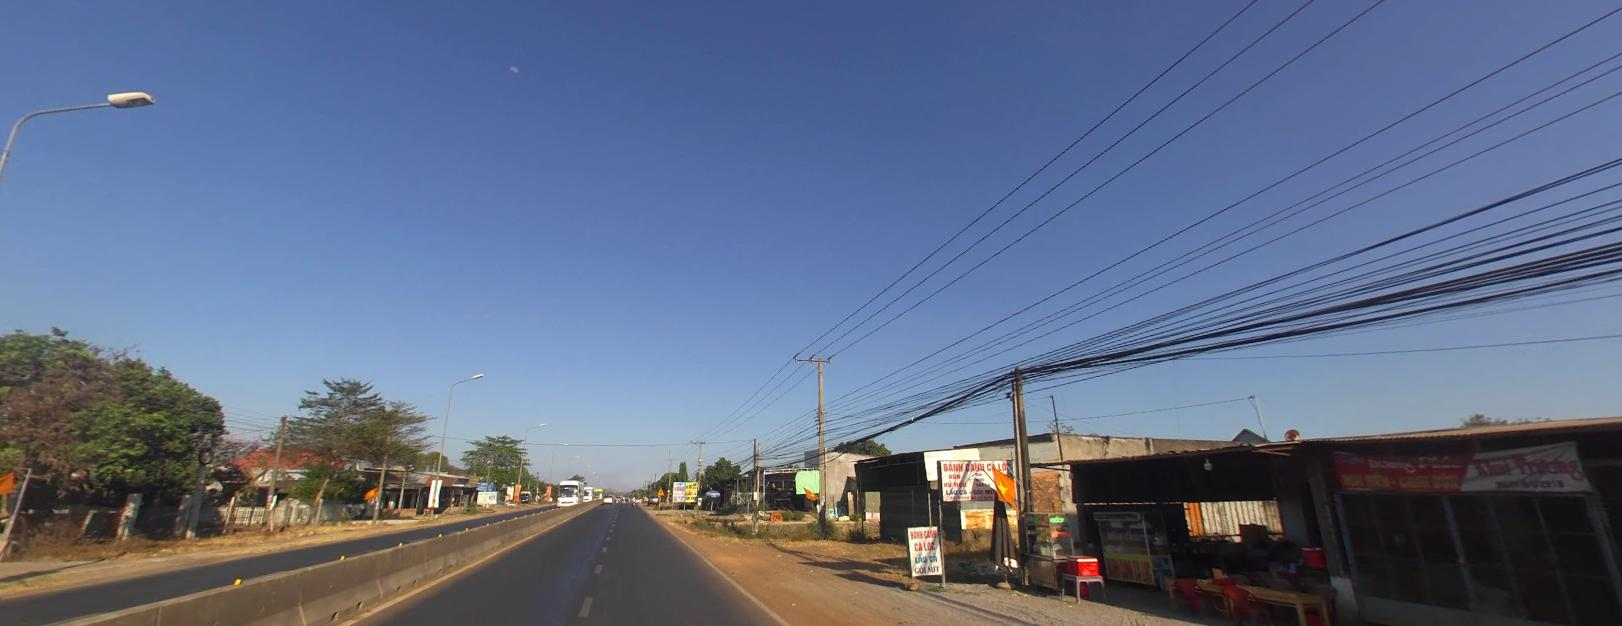Nguy hiem: (657, 486, 664, 495), (656, 486, 663, 493), (656, 487, 663, 493)
